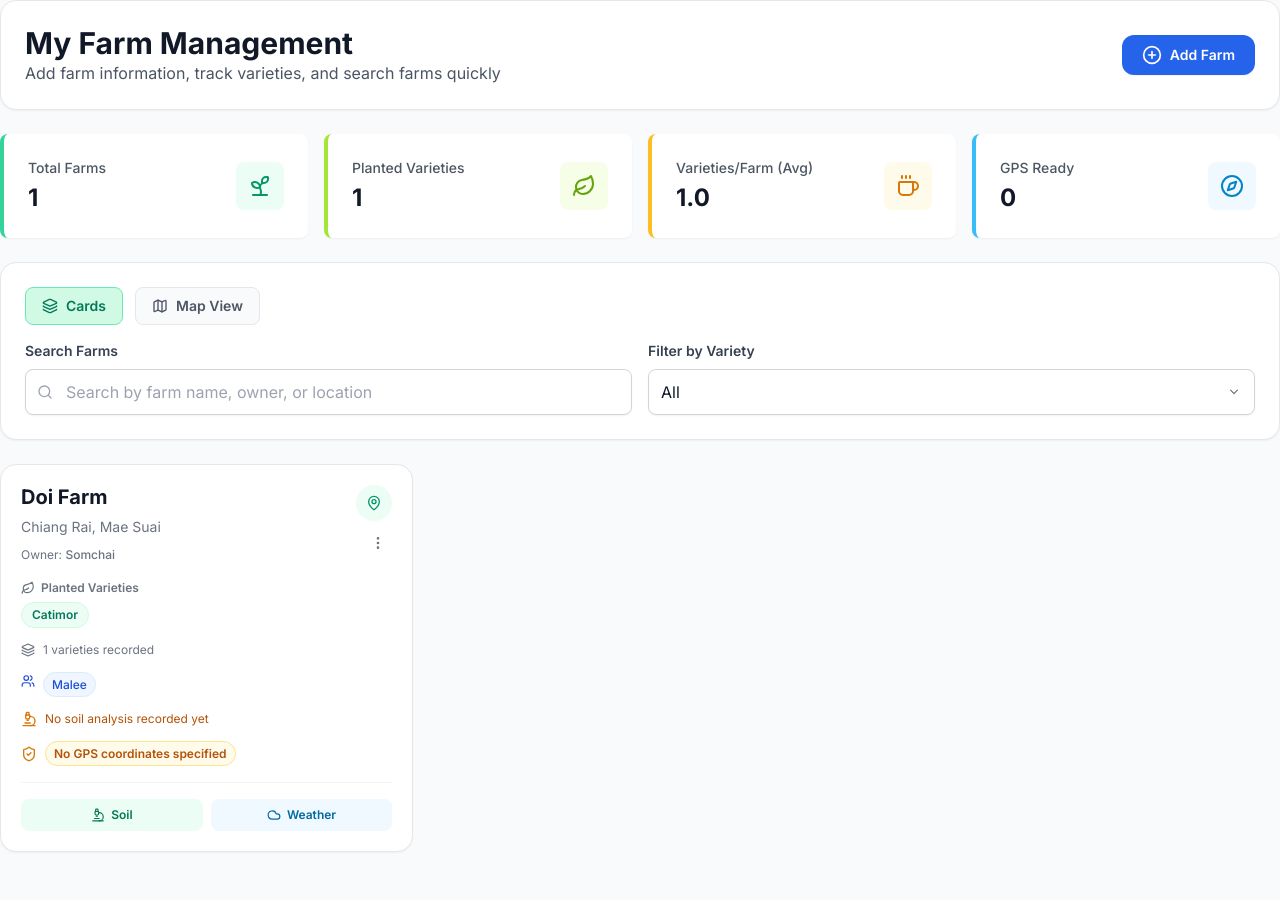
Scenario: Farm Management actions follow the backend's farm rules › lets the farm's weather records, fetched or typed in, go with the farm
Click the button named "Options menu" at (378, 543), box [364,529,392,557]
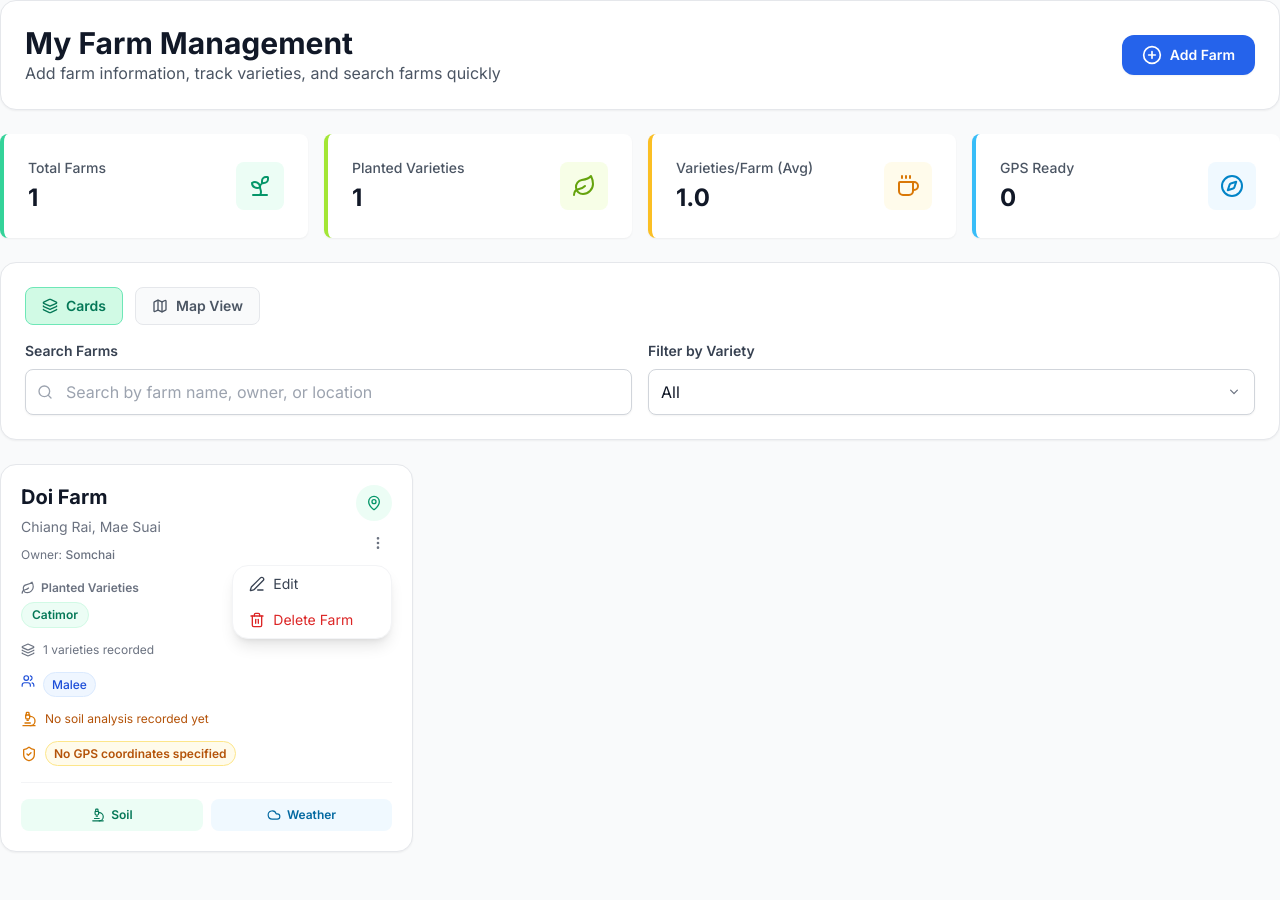
Click the menu item "Delete Farm" at (312, 620), box [233,602,391,638]
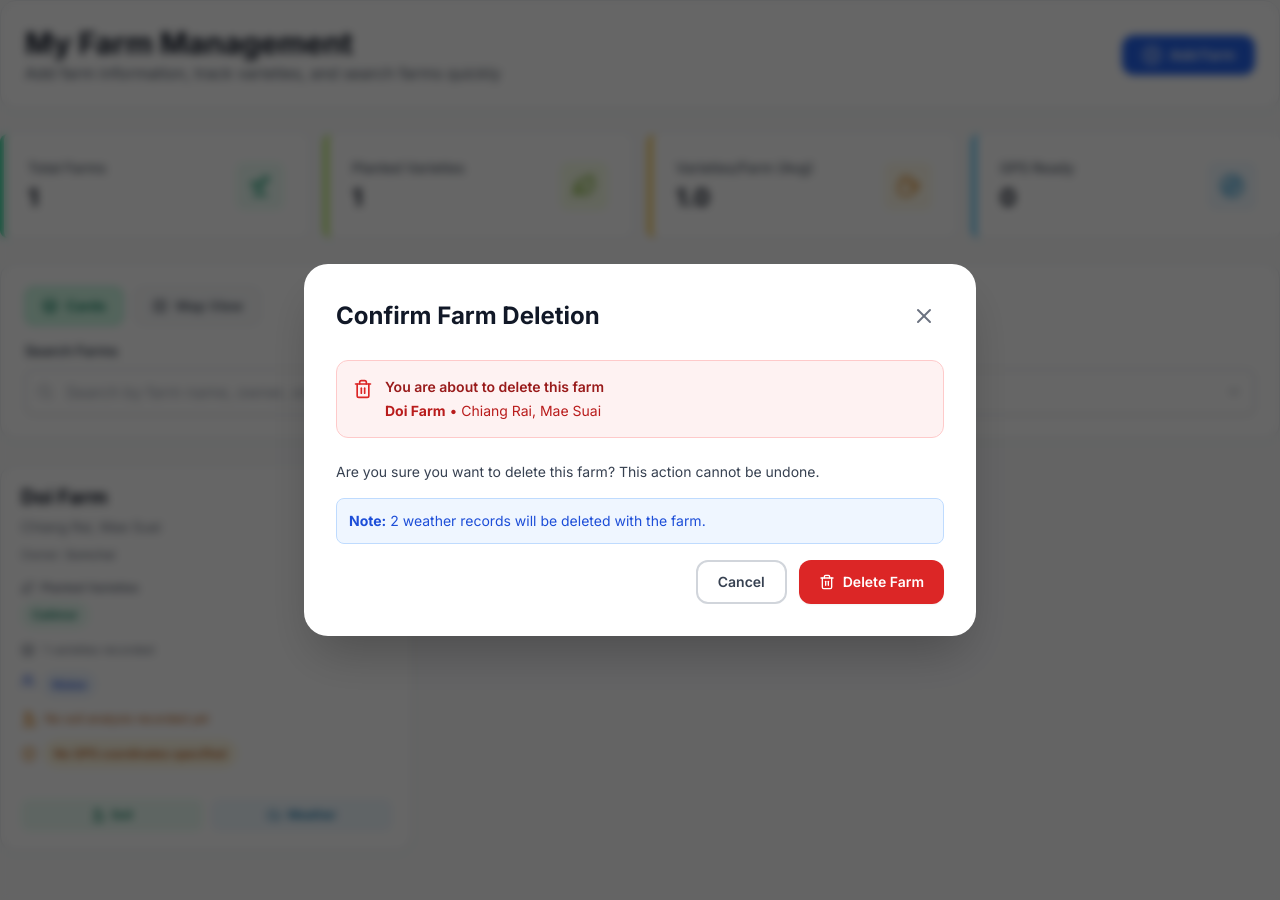
Result: the text "Note: 2 weather records will be deleted with the farm." is shown at [349,512,706,529]
Click the button "Delete Farm" at (871, 582), box [799,560,944,604]
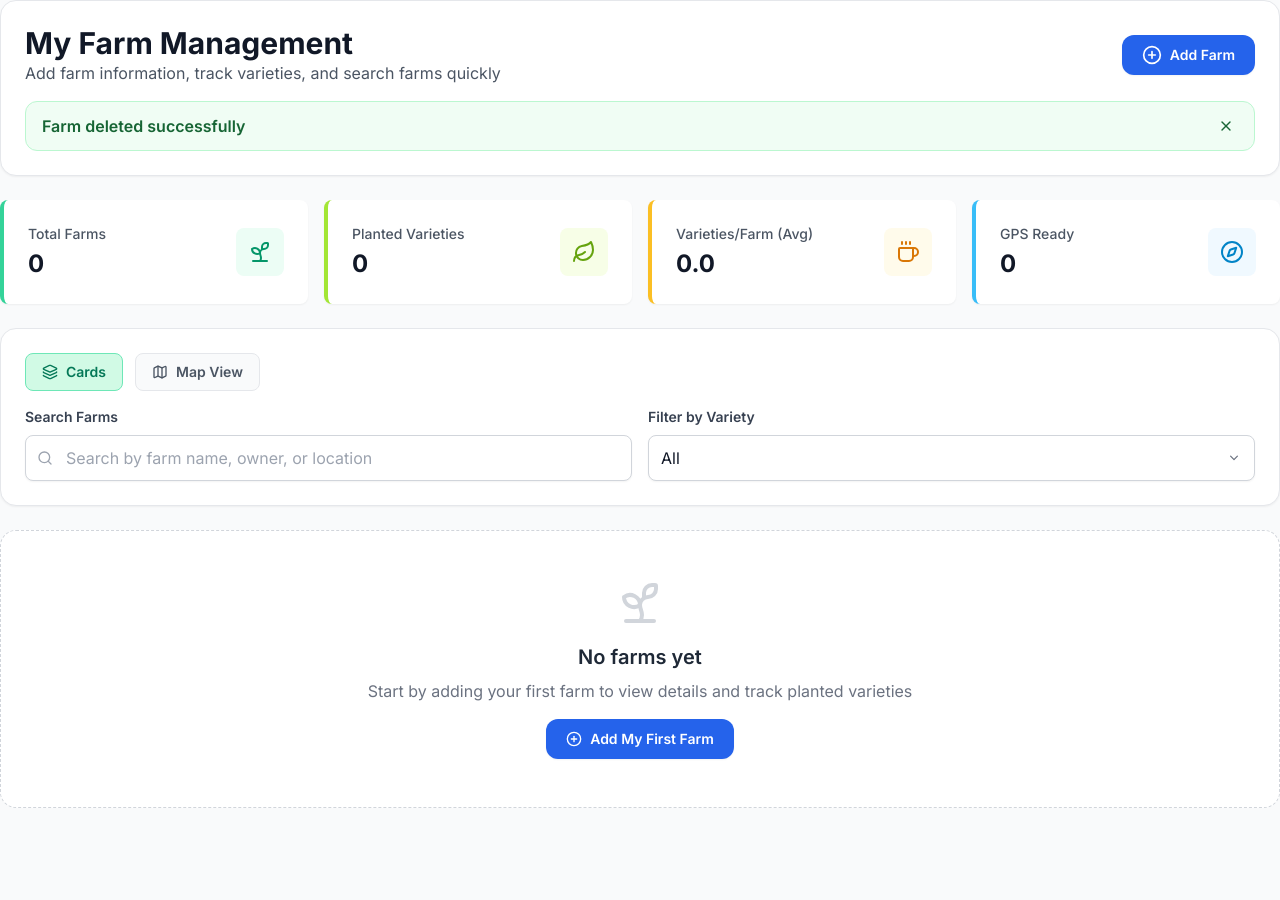
Result: the text "Farm deleted successfully" is shown at [42,114,246,138]
